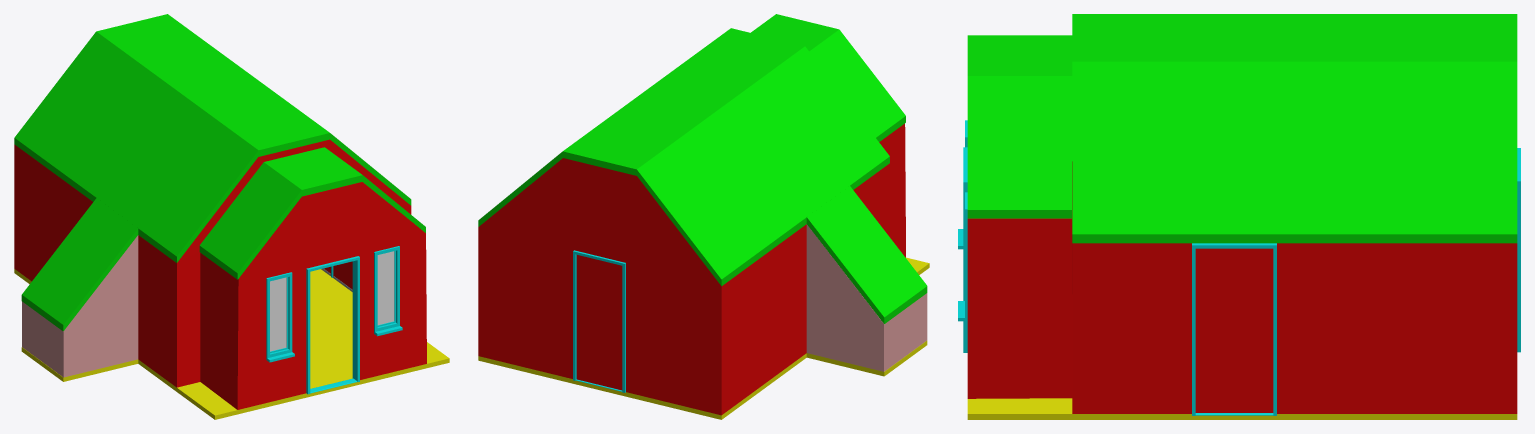
File: FloorPlan508_physics.fbx
3 renders of one model, left to right at view 1: azimuth 30°, elevation 25°; view 2: azimuth 150°, elevation 25°; view 3: azimuth 270°, elevation 25°, orthographic. The views are drawn at different scales.
Parts seen in each view (by area): view 1: FP508:Ceiling_1, Walls, FP508:Walls_2, FP508:Floor_1, FP508:Ceiling_2, FP508:DoorFrame_1, FP508:WindowPane_2, FP508:WindowPane_1, FP508:WindowFrame_1, FP508:WindowFrame_2, FP508:Floor_2; view 2: Walls, FP508:Ceiling_1, FP508:Walls_2, FP508:Ceiling_2, FP508:Floor_1, FP508:DoorFrame_3, FP508:Floor_2; view 3: FP508:Ceiling_1, Walls, FP508:Floor_1, FP508:DoorFrame_2, FP508:DoorFrame_3, FP508:DoorFrame_1, FP508:WindowFrame_2.
Boxes of the visible parts, x1,y1,x2,y2 form: FP508:Ceiling_1: (14, 14, 425, 279); Walls: (14, 139, 426, 409); FP508:Walls_2: (22, 235, 138, 377); FP508:Floor_1: (14, 269, 449, 419); FP508:Ceiling_2: (21, 198, 138, 331); FP508:DoorFrame_1: (306, 256, 359, 394); FP508:WindowPane_2: (377, 251, 394, 325); FP508:WindowPane_1: (270, 277, 286, 351); FP508:WindowFrame_1: (266, 272, 294, 362); FP508:WindowFrame_2: (374, 246, 402, 336); FP508:Floor_2: (21, 347, 138, 381); Walls: (478, 123, 905, 415); FP508:Ceiling_1: (478, 14, 905, 286); FP508:Walls_2: (806, 224, 927, 371); FP508:Ceiling_2: (806, 186, 927, 323); FP508:Floor_1: (478, 257, 929, 419); FP508:DoorFrame_3: (573, 250, 625, 392); FP508:Floor_2: (806, 340, 927, 376); FP508:Ceiling_1: (967, 14, 1517, 243); Walls: (967, 161, 1517, 413); FP508:Floor_1: (967, 398, 1517, 419); FP508:DoorFrame_2: (1192, 243, 1276, 415); FP508:DoorFrame_3: (1517, 148, 1520, 352); FP508:DoorFrame_1: (963, 147, 967, 352); FP508:WindowFrame_2: (958, 192, 967, 321).
Bounding box in the file's own units: 541 × 367 × 616.
